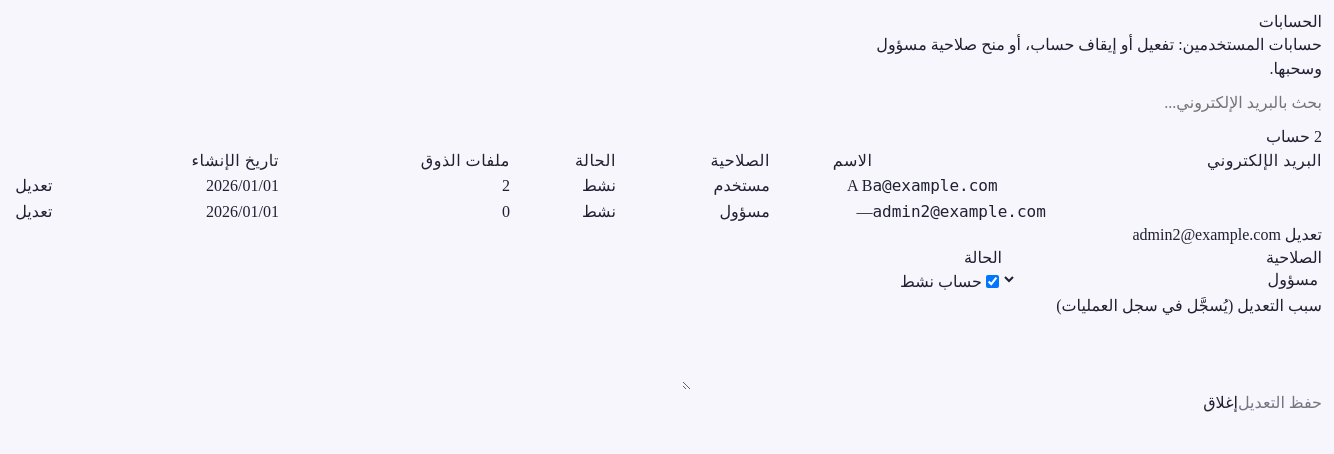
UserManagementAdmin › shows the server refusal reason in plain language instead of a generic failure
The width and height of the screenshot is (1334, 454).
Expected: the heading "تعديل admin2@example.com" is shown, 1132,226 -> 1322,243
What coordinates should you click on to do the following:
click the checkbox labelled "حساب نشط"
I would click on:
 (992, 282)
Its box is 986,275 -> 999,288.
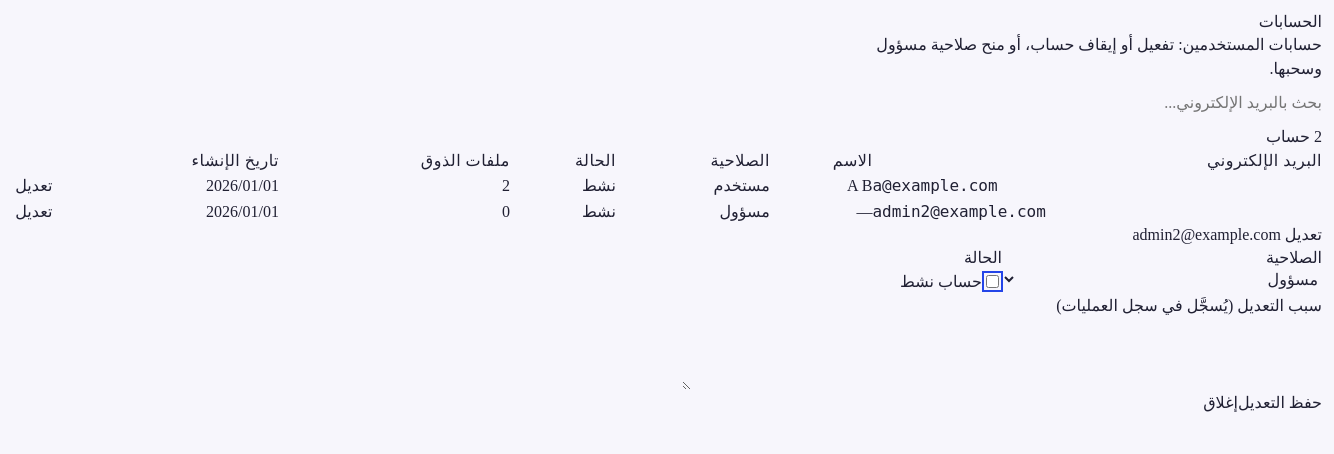
What coordinates should you click on to do the following:
click the button "حفظ التعديل"
I would click on:
 (1280, 403)
Its box is 1238,390 -> 1322,416.
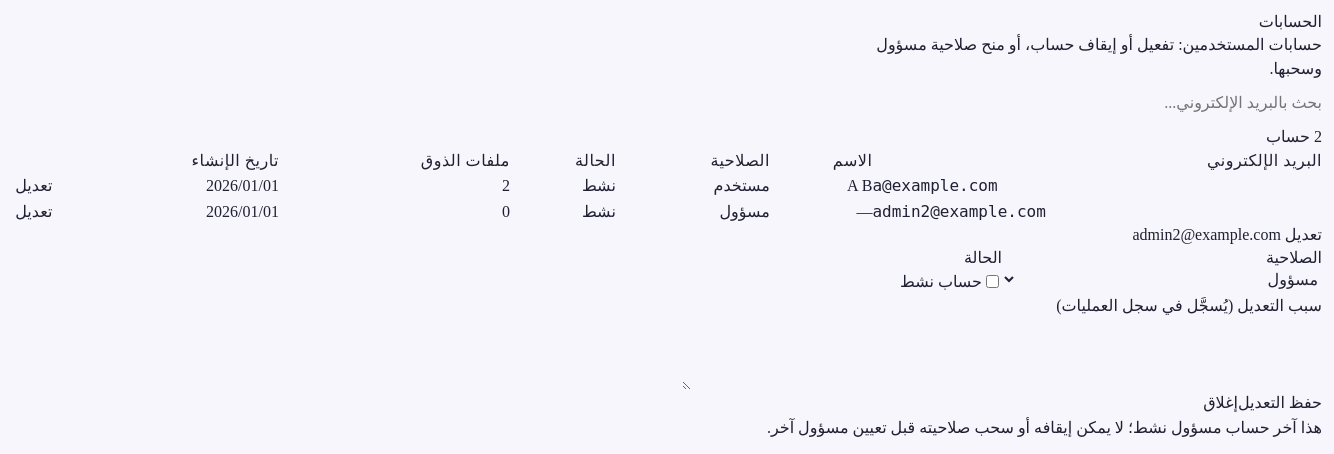
Expected: the message shows "آخر حساب مسؤول نشط", 767,419 -> 1322,436
